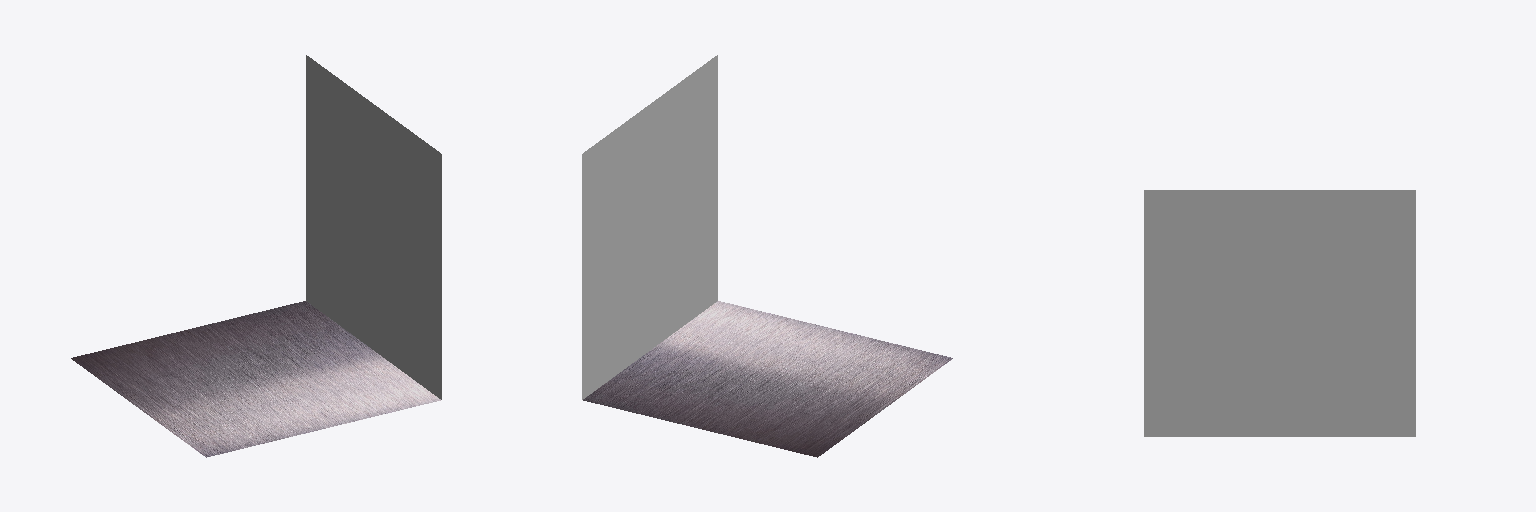
3 renders of one model, left to right at view 1: azimuth 30°, elevation 25°; view 2: azimuth 150°, elevation 25°; view 3: azimuth 270°, elevation 25°, orthographic.
Parts seen in each view (by area): view 1: face1; view 2: face1; view 3: face1.
Boxes of the visible parts, box(x1,y1,x2,y2) form: face1: box(71, 55, 441, 457); face1: box(582, 55, 952, 457); face1: box(1144, 190, 1415, 436).
Size of the model in its own units: 1 by 1 by 1.
2 materials, 1 textured.